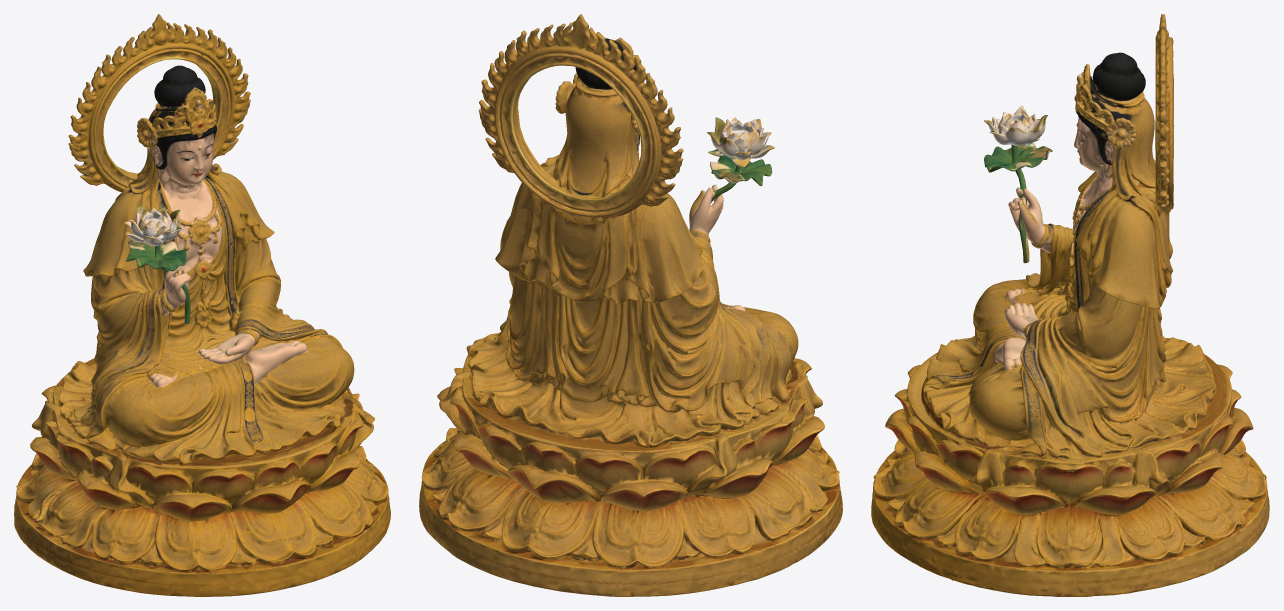
The model's file is guanyin.glb.
The picture shows the model from 3 angles, left to right: view 1: azimuth 30°, elevation 25°; view 2: azimuth 150°, elevation 25°; view 3: azimuth 270°, elevation 25°; orthographic projection. The views are drawn at different scales.
Parts seen in each view (by area): view 1: mesh-q; view 2: mesh-q; view 3: mesh-q.
Part boxes in pixels (x1,y1,x2,y2): mesh-q: [14, 14, 390, 596]; mesh-q: [419, 14, 842, 596]; mesh-q: [871, 14, 1269, 596].
Bounding box in the file's own units: 1.38 × 1.91 × 1.38.
Materials: 1 (1 with a texture image).
